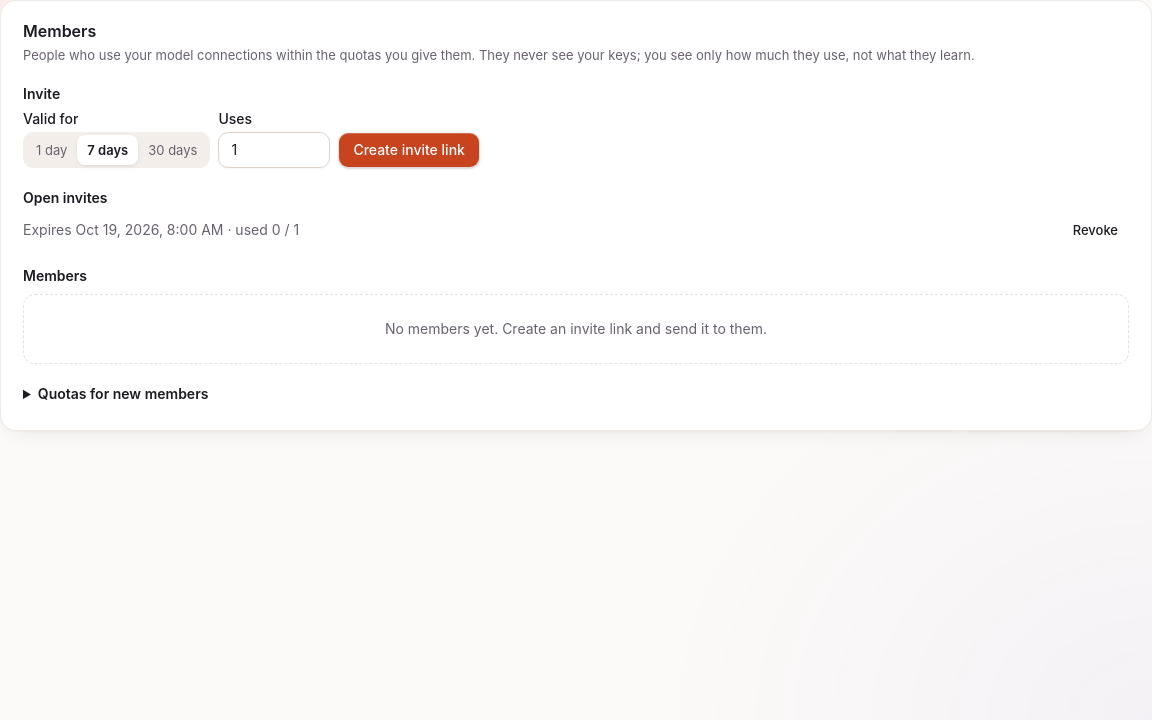
it: MembersSection › saves the quotas new members start with
Expected: the text "No members yet. Create an invite link and send it to them." is shown, [23,294,1129,364]
Click the heading "Quotas for new members" at [123, 393], box [38,385,208,402]
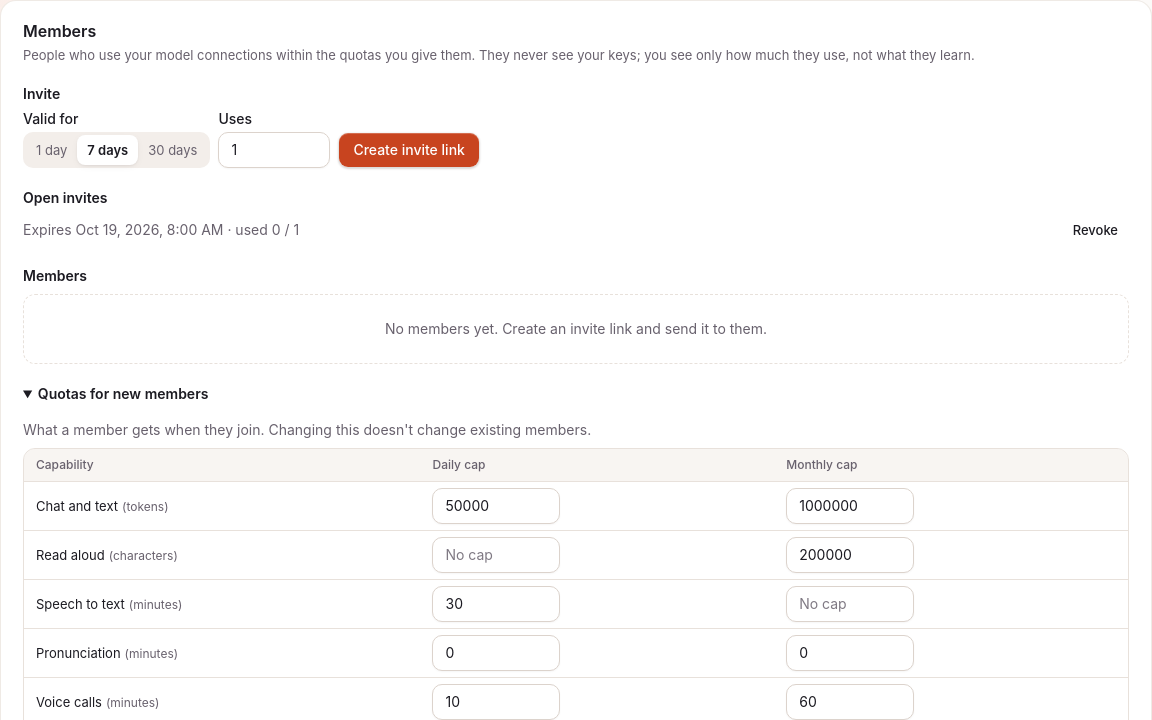
Type "5000" into the number field named "Read aloud · Daily cap" at [496, 555], box [432,537,560,573]
(page scrolled)
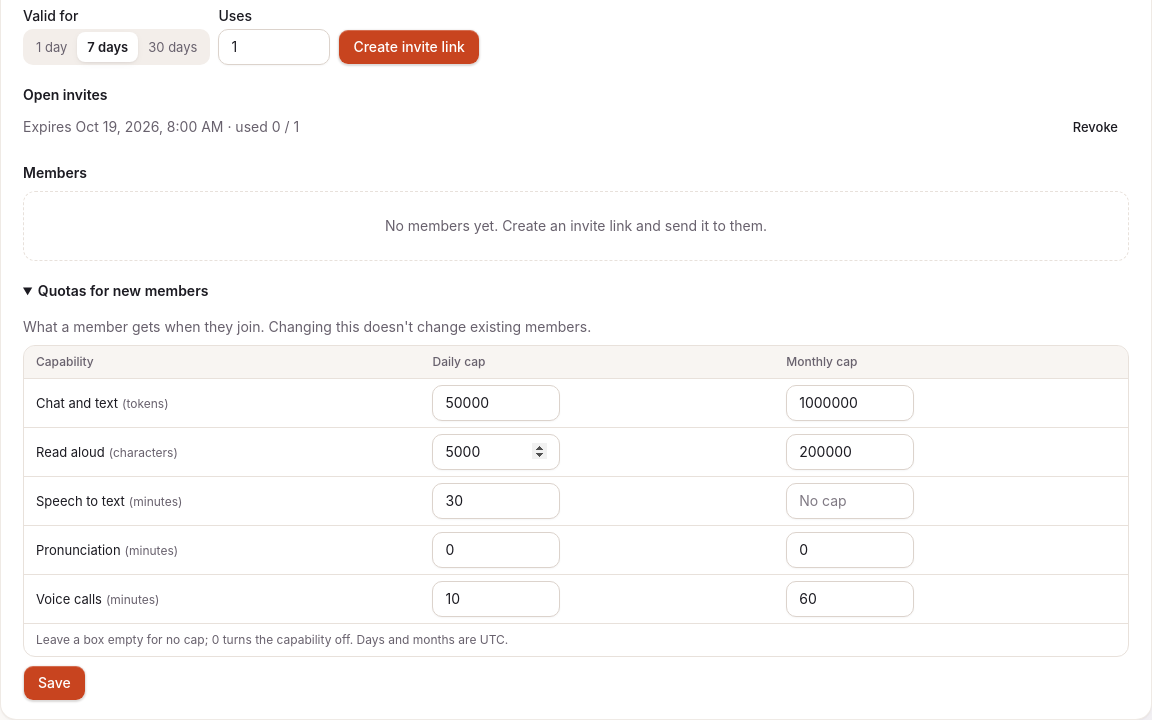
Click the button "Save" at [54, 683], box [23,665,86,701]
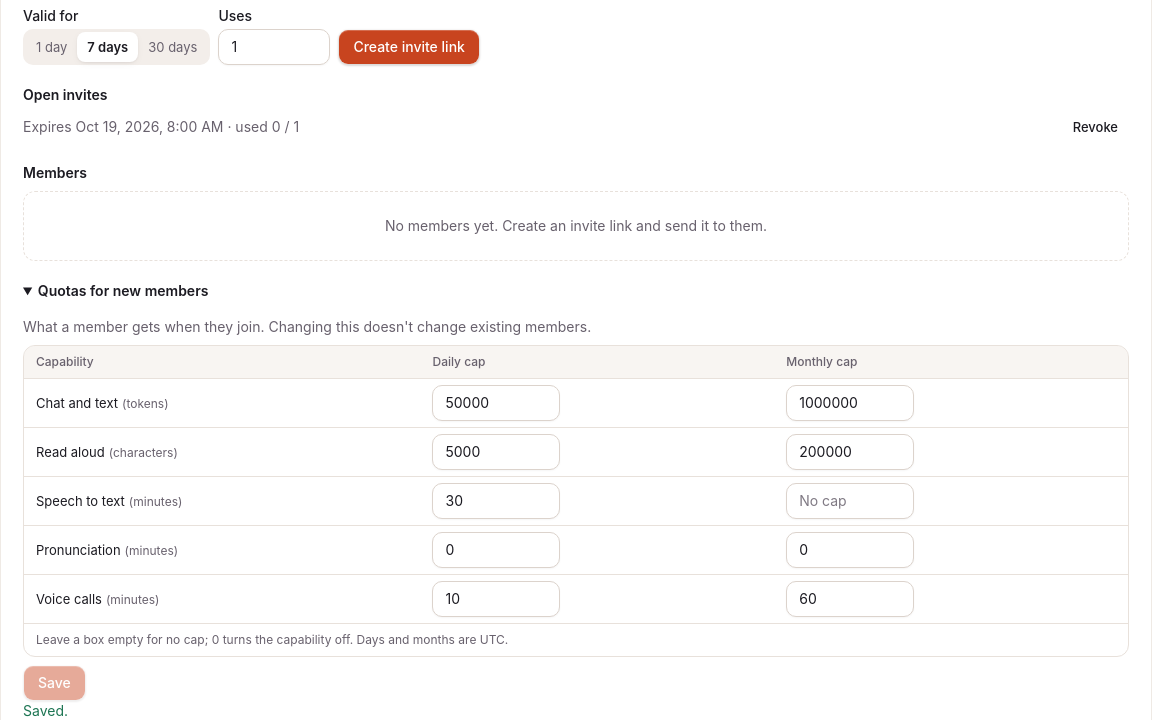
Expected: the text "Saved." is shown, [23,702,68,719]
